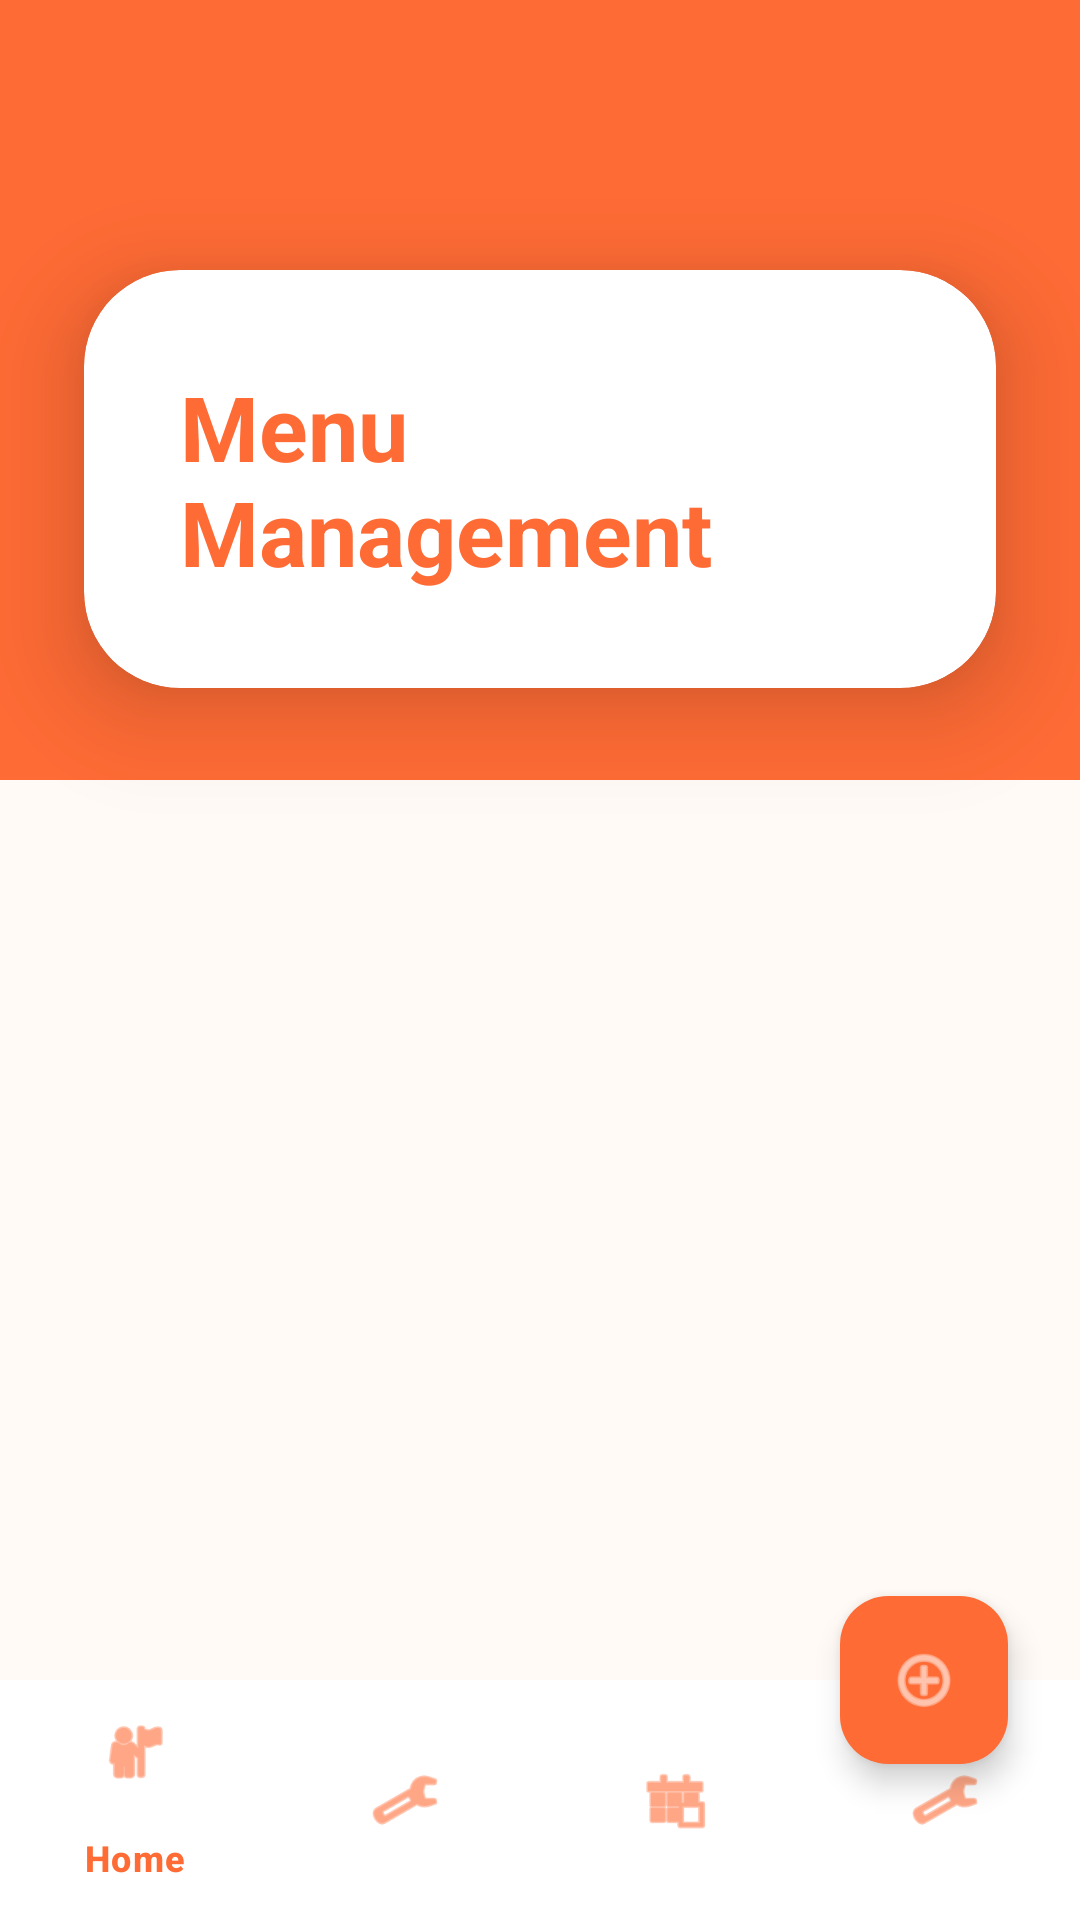

Screen size 1080×1920. Icon name, then its center in pixels as (x=x, y=y):
add: (x=924, y=1680)
